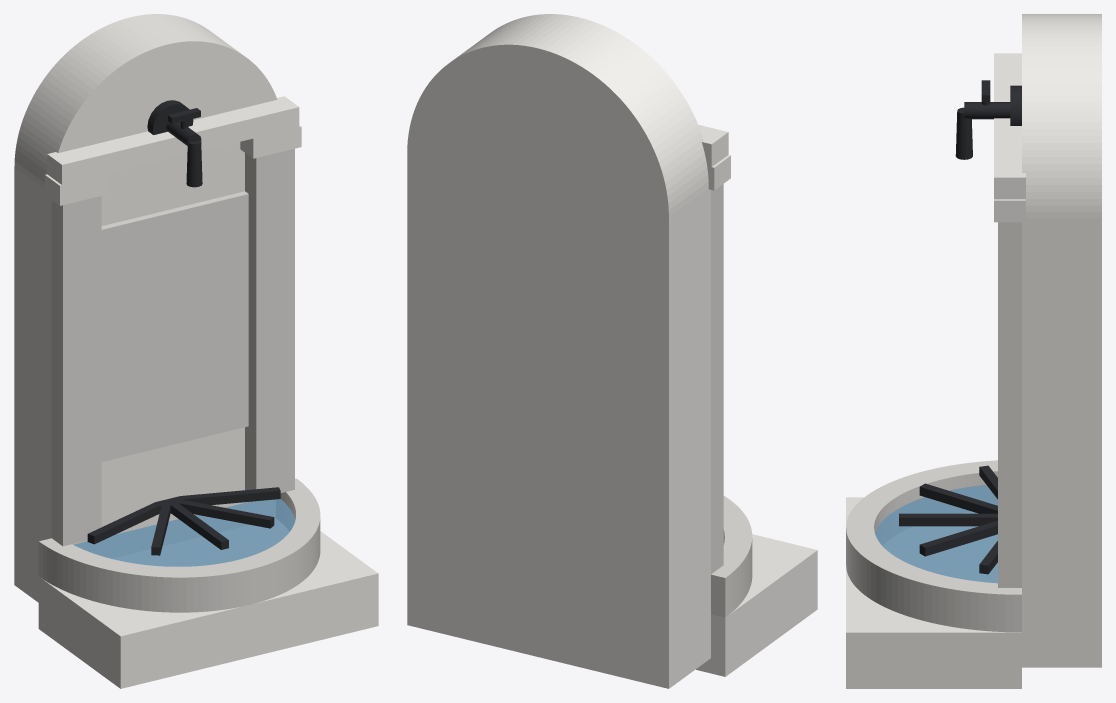
3 renders of one model, left to right at view 1: azimuth 30°, elevation 25°; view 2: azimuth 150°, elevation 25°; view 3: azimuth 270°, elevation 25°, orthographic. The views are drawn at different scales.
Visible parts, largest first — view 1: panel-arche, panel-cadre, basin-socle, panel-pilastre-0, panel-pilastre-1, basin-levre, panel-entablement, eau, panel-chapiteau-0, panel-chapiteau-1, grille-1, grille-0 (+5 smaller); view 2: panel-arche, basin-socle, panel-pilastre-0, basin-levre, panel-entablement; view 3: panel-arche, basin-socle, basin-levre, panel-pilastre-1, eau, panel-entablement, grille-2, grille-1, grille-3, robinet-corps, panel-chapiteau-1, robinet-bec (+1 smaller).
Boxes of the visible parts, x1,y1,x2,y2 form: panel-arche: [14, 14, 277, 602]; panel-cadre: [101, 191, 248, 461]; basin-socle: [38, 519, 378, 688]; panel-pilastre-0: [51, 196, 101, 546]; panel-pilastre-1: [245, 148, 294, 492]; basin-levre: [38, 478, 320, 612]; panel-entablement: [47, 96, 299, 184]; eau: [73, 499, 295, 566]; panel-chapiteau-0: [45, 174, 108, 205]; panel-chapiteau-1: [240, 125, 301, 158]; grille-1: [166, 499, 274, 528]; grille-0: [168, 487, 280, 505]; panel-arche: [407, 14, 710, 688]; basin-socle: [696, 534, 817, 676]; panel-pilastre-0: [711, 184, 723, 573]; basin-levre: [711, 496, 752, 617]; panel-entablement: [698, 124, 728, 166]; panel-arche: [1022, 14, 1101, 667]; basin-socle: [846, 497, 1021, 688]; basin-levre: [846, 460, 1021, 632]; panel-pilastre-1: [998, 222, 1021, 587]; eau: [875, 485, 997, 583]; panel-entablement: [994, 53, 1025, 199]; grille-2: [899, 513, 997, 526]; grille-1: [919, 520, 997, 556]; grille-3: [919, 483, 997, 513]; robinet-corps: [964, 102, 1010, 119]; panel-chapiteau-1: [994, 199, 1025, 222]; robinet-bec: [955, 107, 972, 159].
Size of the model in its own units: 0.4 by 0.82 by 0.32.
